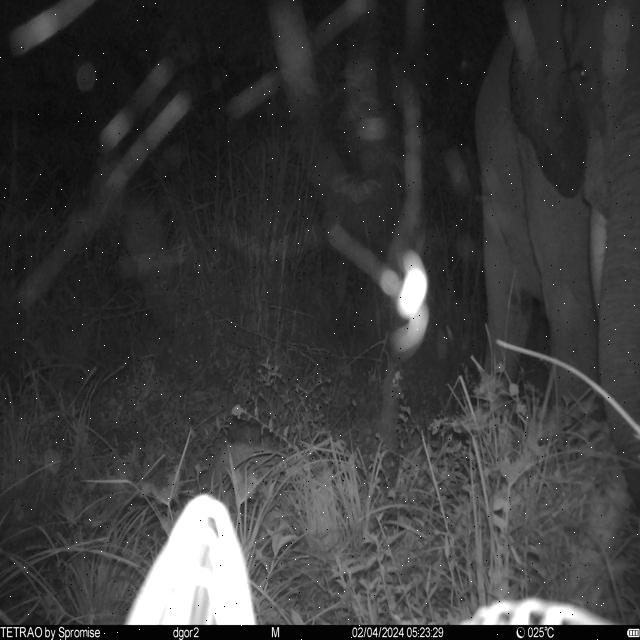ear: (506, 0, 592, 199)
elephant: (474, 0, 640, 512)
tusk: (589, 205, 610, 322)
